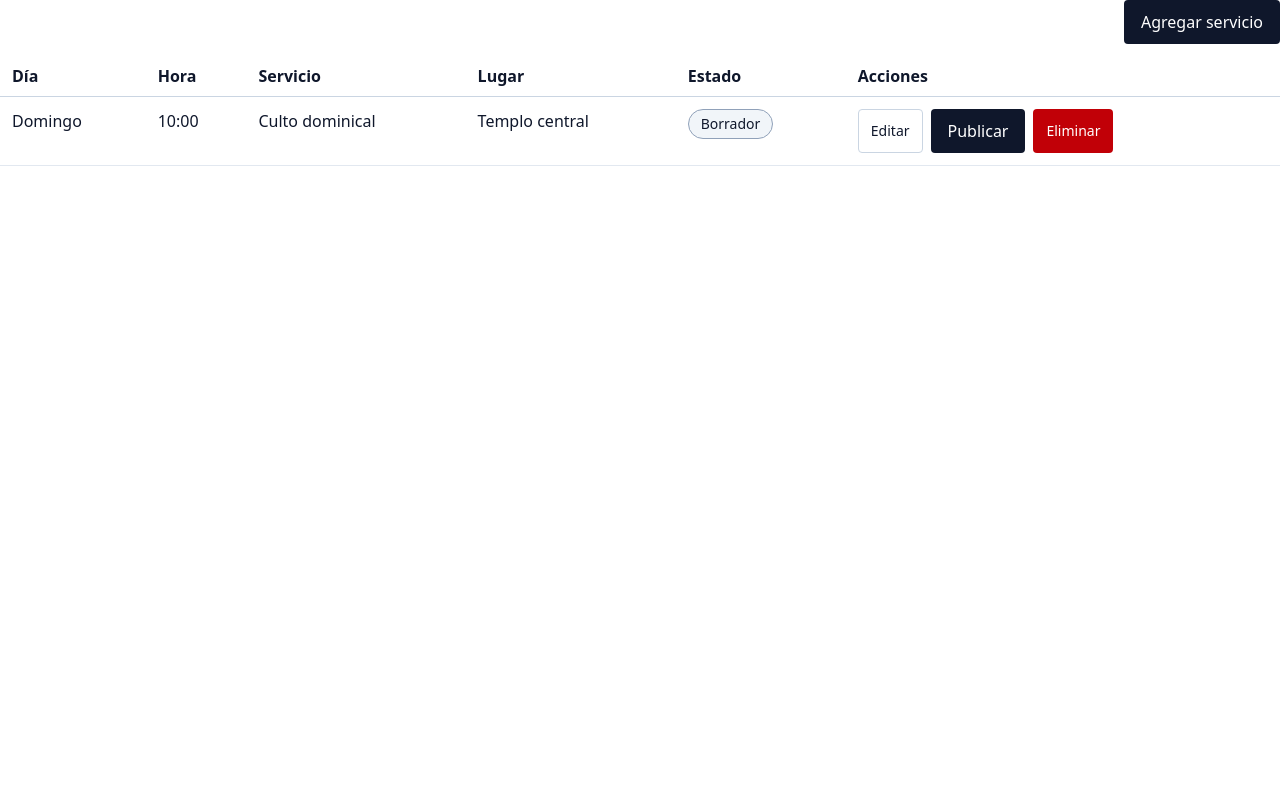
Test case: ServicesList · horario (FR-004, analyze C2) › publicar, retirar y eliminar por elemento (FR-013)
Click the button "Publicar": click(978, 131) [930,109,1025,153]
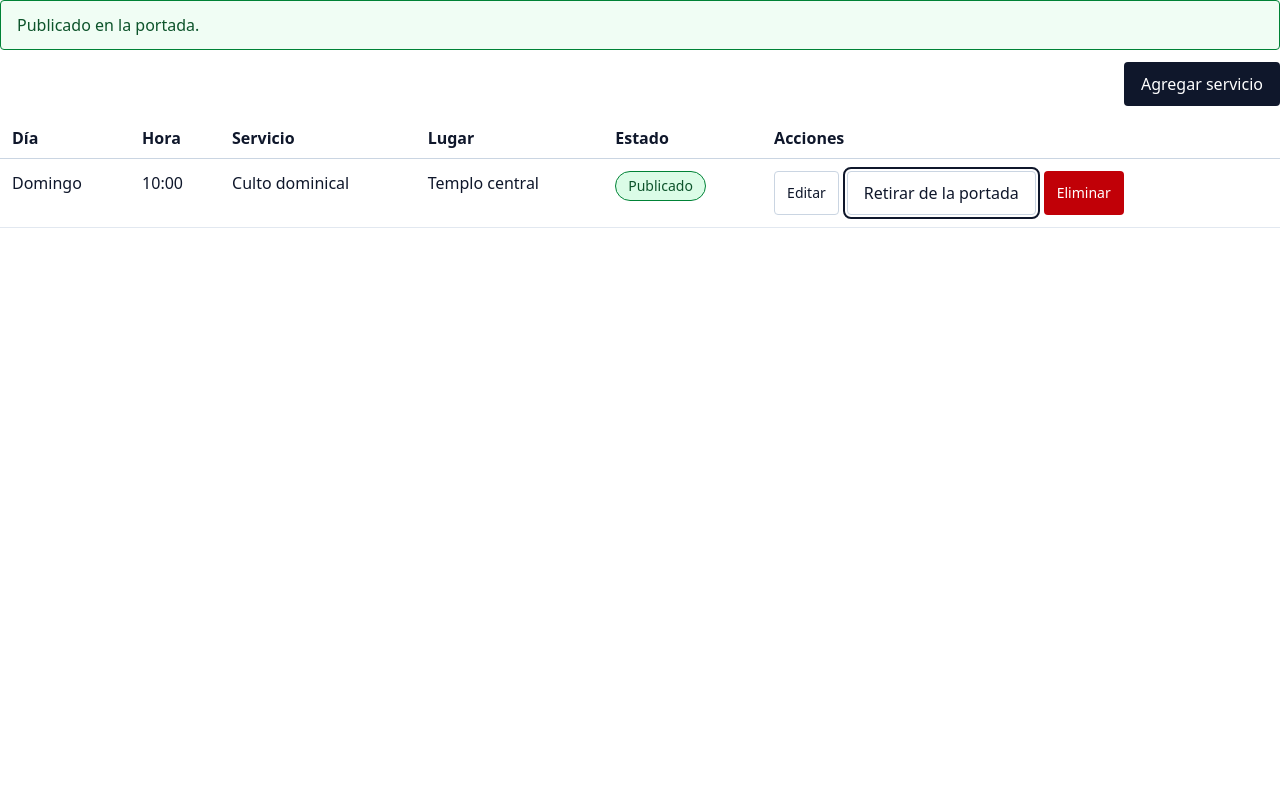
Now the text "Publicado en la portada." is shown, box [0,0,1279,50]
Now the text "Publicado" is shown, box [615,171,706,201]
Click the button "Retirar de la portada": click(941, 193) [847,171,1036,215]
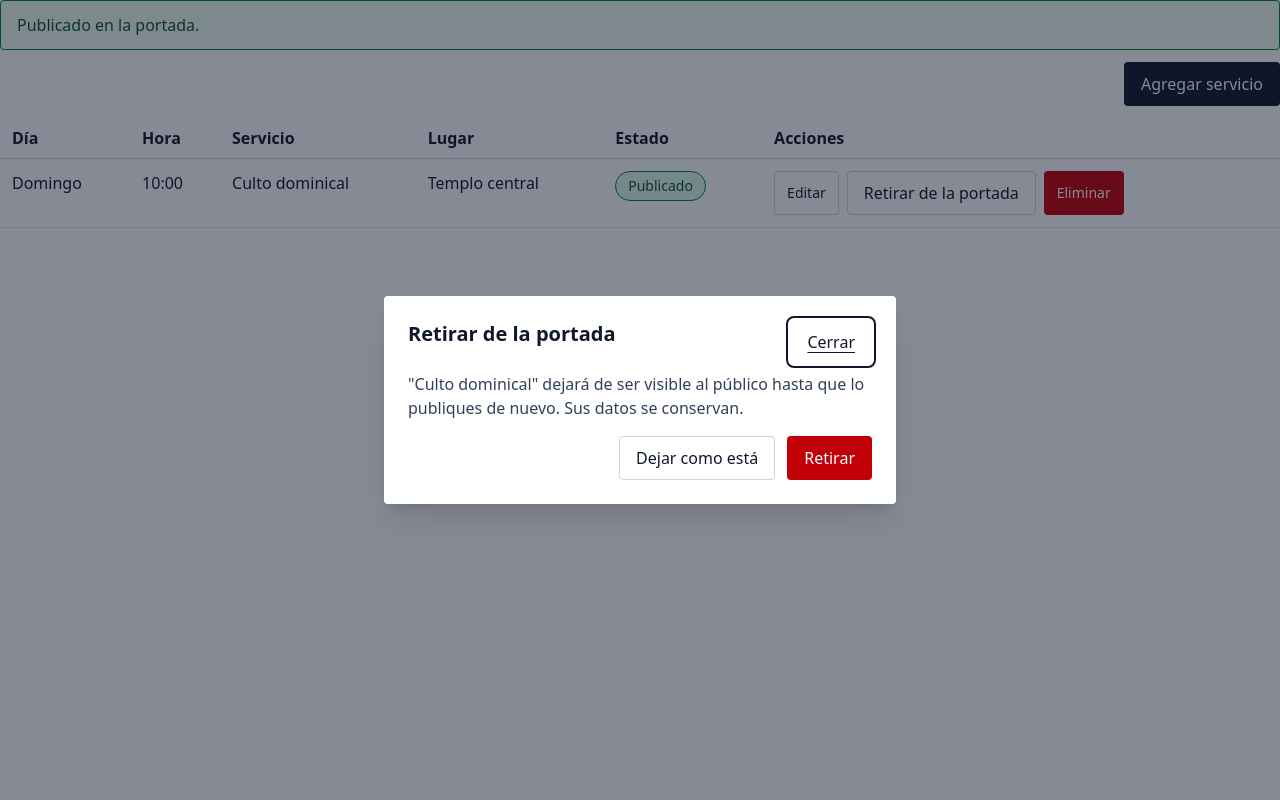
Click the button "Retirar": click(830, 458) [787,436,872,480]
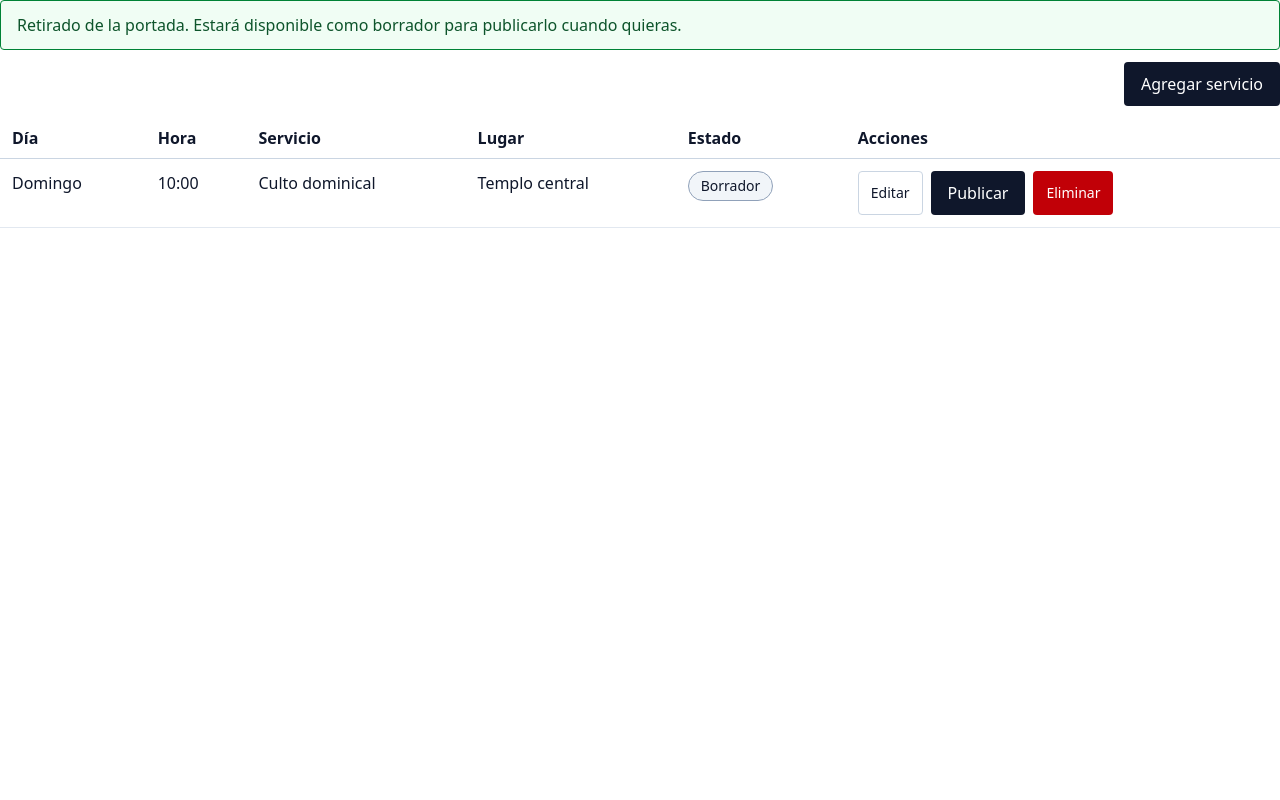
Now the text "Retirado de la portada. Estará disponible como borrador para publicarlo cuando quieras." is shown, box [17,14,682,36]
Click the button "Eliminar": click(1074, 193) [1034,171,1114,215]
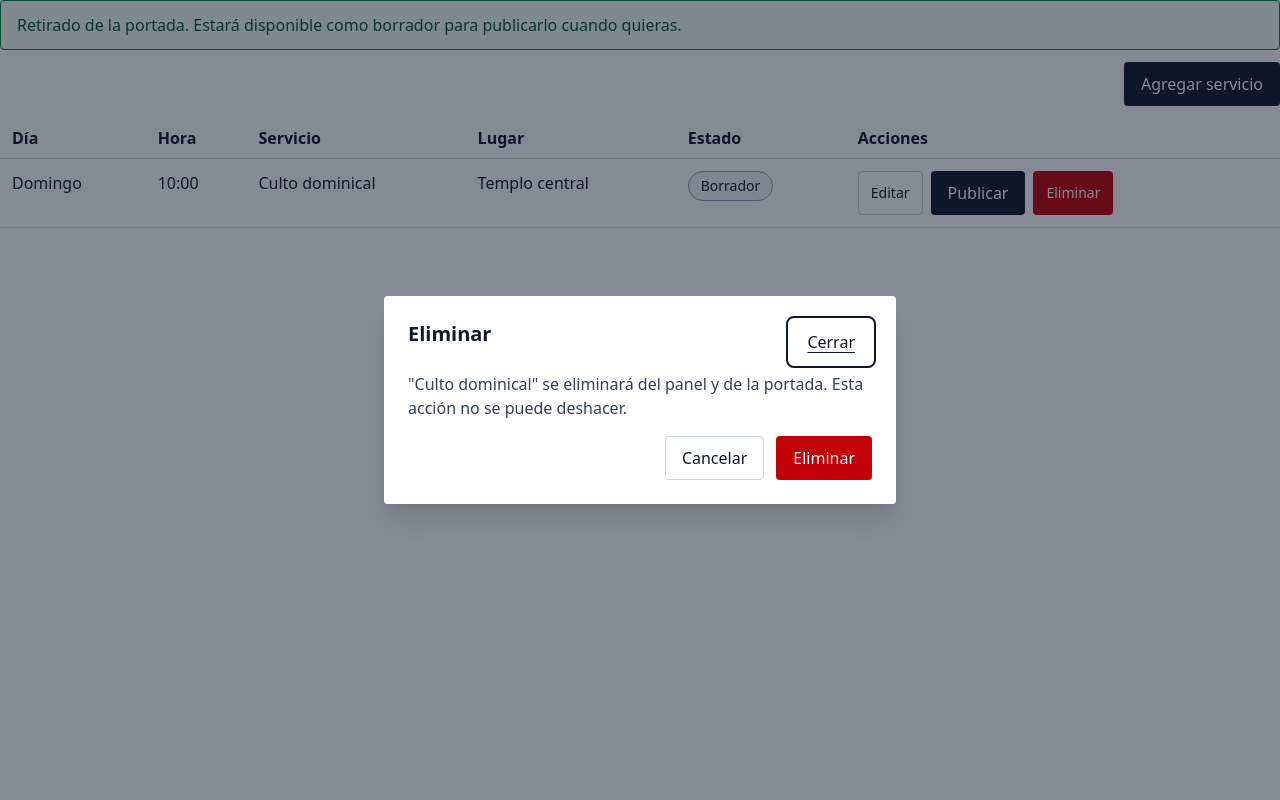
Click the button "Eliminar": click(824, 458) [776,436,872,480]
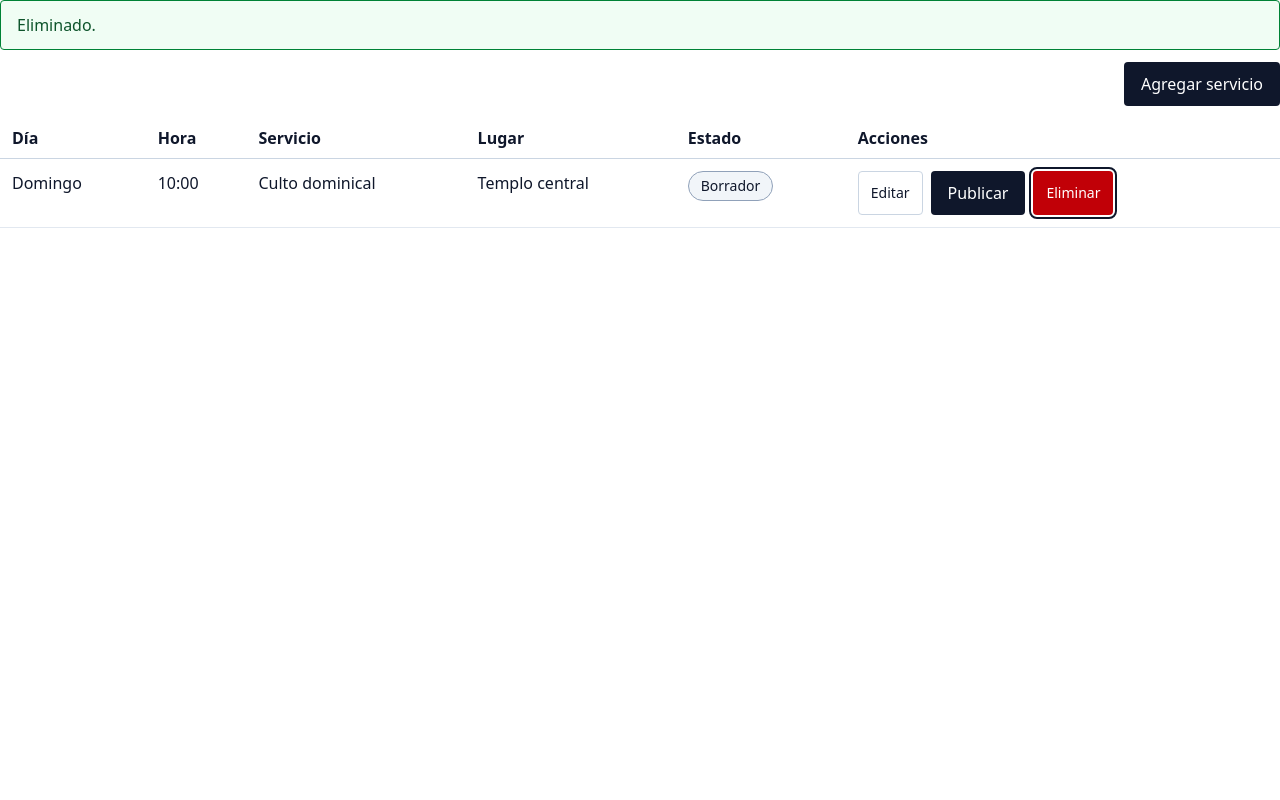
Now the text "Eliminado." is shown, box [0,0,1279,50]
